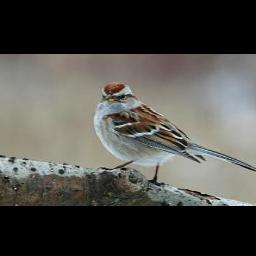Sparrow: (96, 81, 256, 186)
